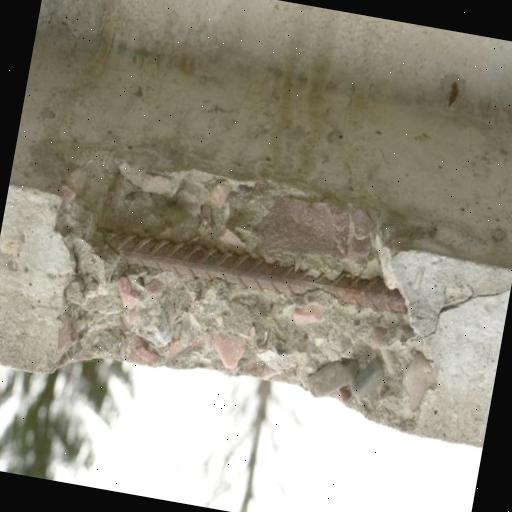spalling: (36, 150, 402, 416)
